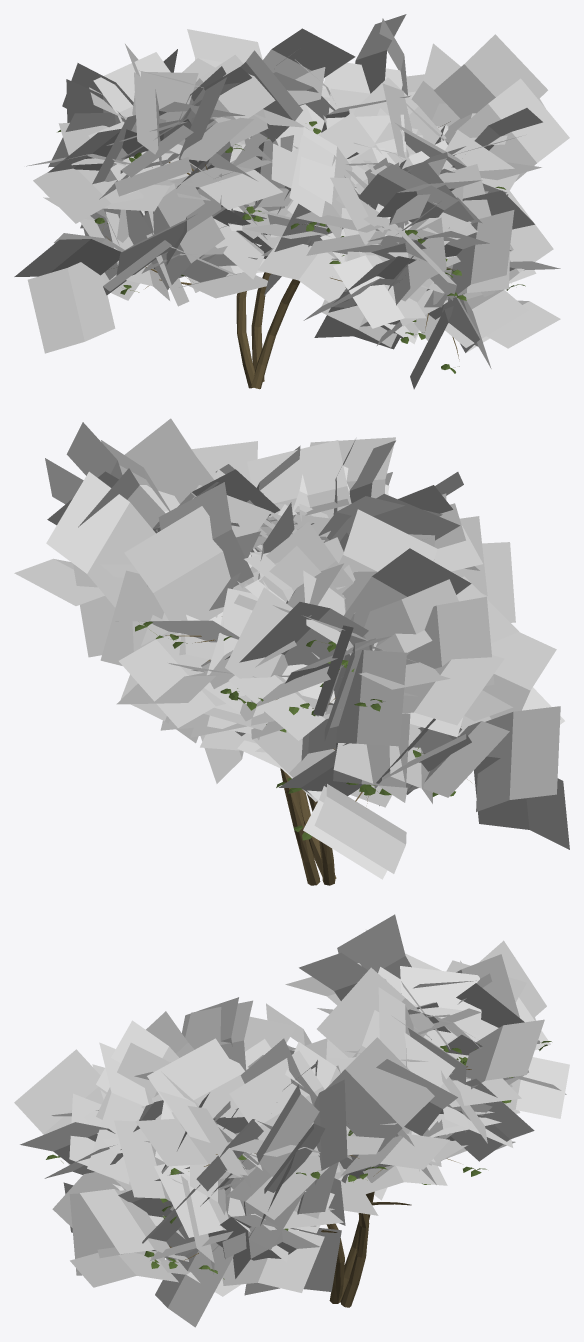
File: Lentisque_Ancien_LOD1.fbx
3 views of the same model, one above another, from view 1: azimuth 30°, elevation 25°; view 2: azimuth 150°, elevation 25°; view 3: azimuth 270°, elevation 25° (orthographic). The views are drawn at different scales.
Visible parts, largest first — view 1: Lentisque_Ancien_LOD1; view 2: Lentisque_Ancien_LOD1; view 3: Lentisque_Ancien_LOD1.
Boxes of the visible parts, x1,y1,x2,y2 form: Lentisque_Ancien_LOD1: (14,14,569,389); Lentisque_Ancien_LOD1: (14,418,569,885); Lentisque_Ancien_LOD1: (14,914,569,1327).
Bounding box in the file's own units: 385 × 254 × 366.
